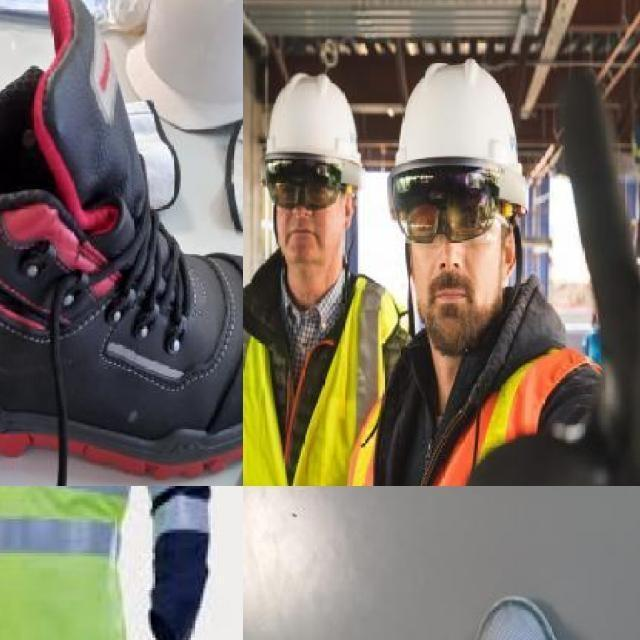apron: (544, 117, 640, 486)
